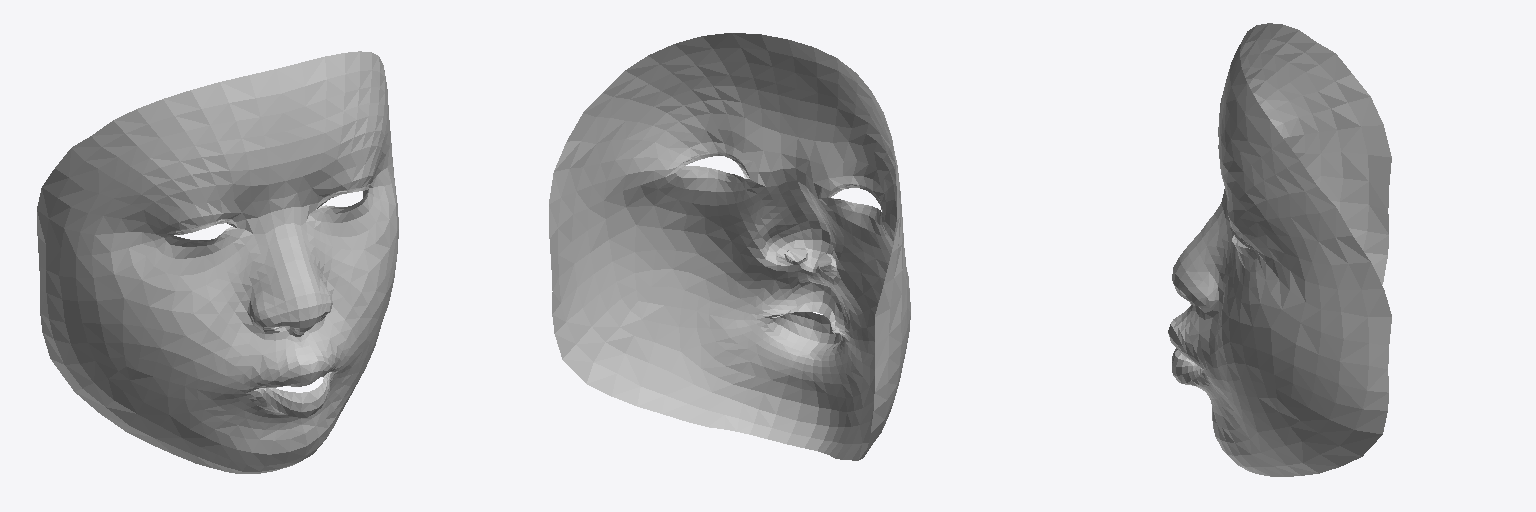
File: mouthPucker.obj
The picture shows the model from 3 angles: view 1: azimuth 30°, elevation 25°; view 2: azimuth 150°, elevation 25°; view 3: azimuth 270°, elevation 25°; orthographic projection.
Parts seen in each view (by area): view 1: default; view 2: default; view 3: default.
Part boxes in pixels (x1,y1,x2,y2): default: (37,51,398,473); default: (549,33,910,460); default: (1168,23,1391,476).
Bounding box in the file's own units: 0.1624 × 0.1855 × 0.0936.